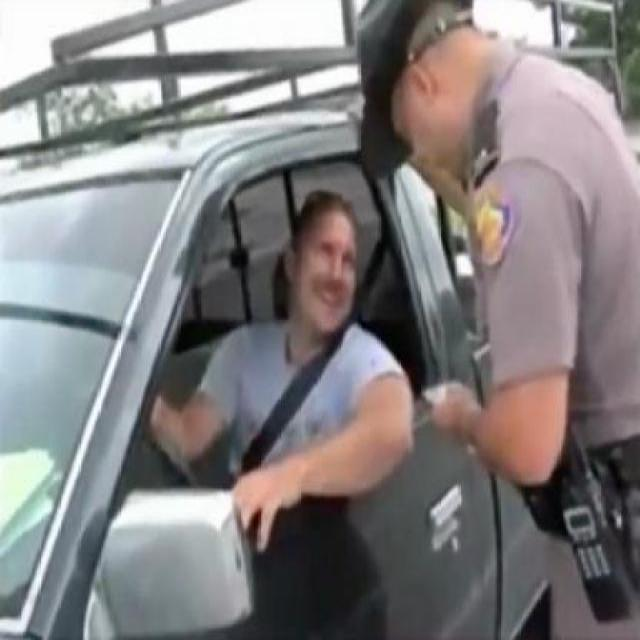seatbelt: (218, 204, 409, 490)
